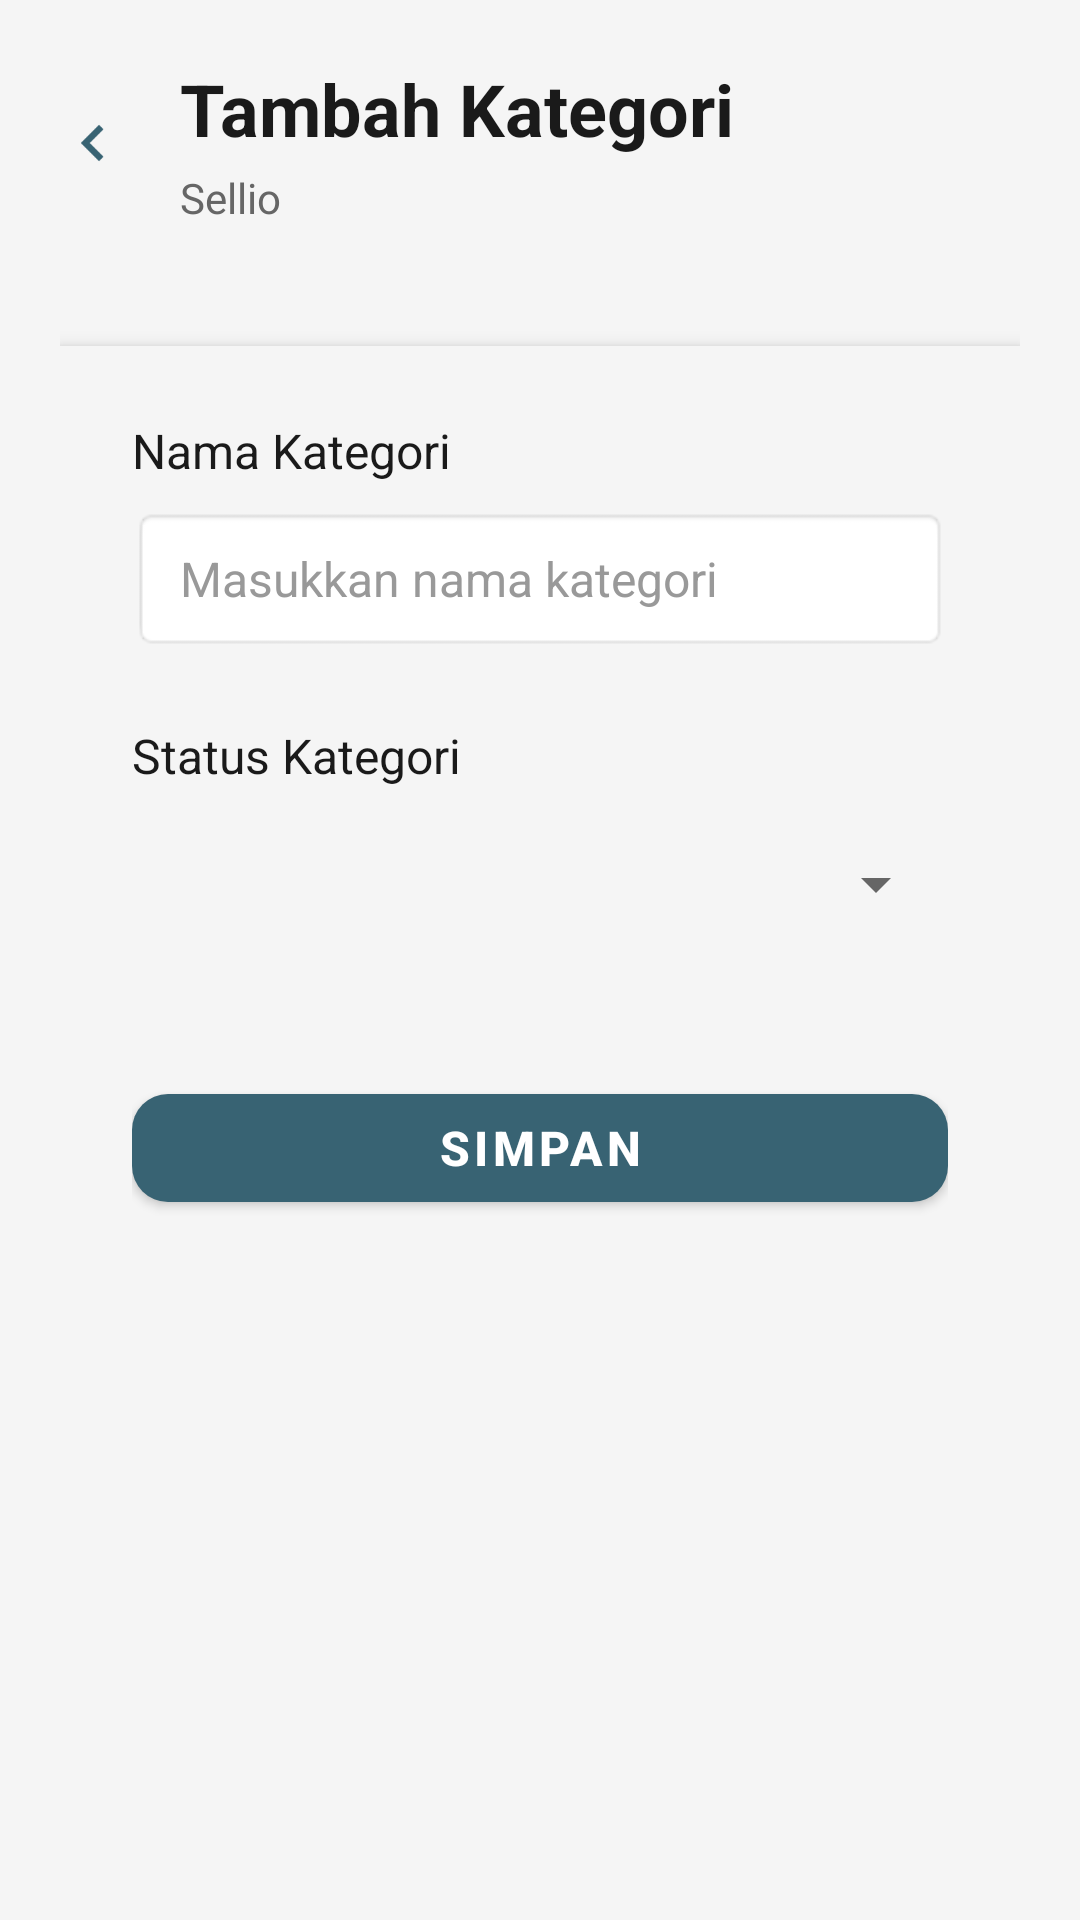

Where icons sit on this 1080 × 1920 app screen, as box=[x1, y1, x2, y2]:
back: box=[81, 125, 104, 161]
